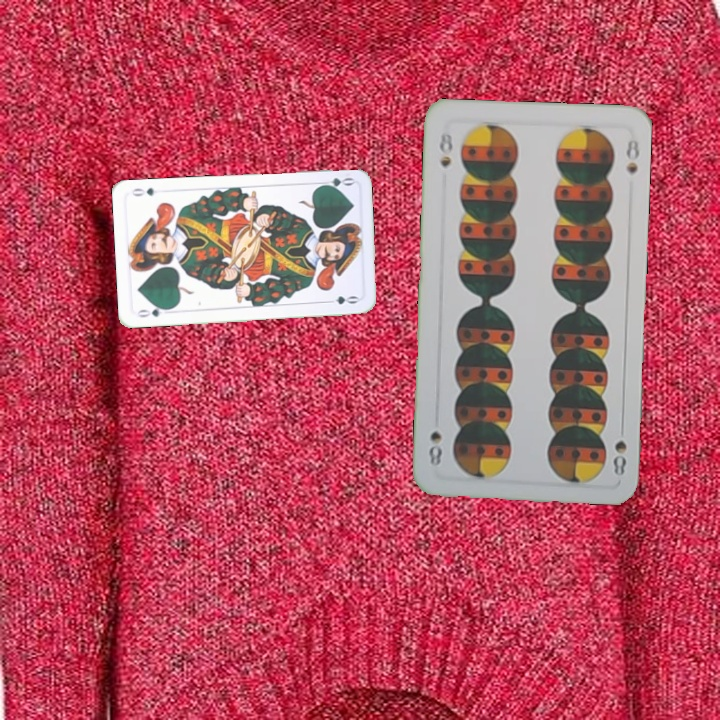GO: (133, 302, 173, 320), (315, 174, 355, 192)
S8: (435, 127, 456, 171), (609, 436, 629, 479)
